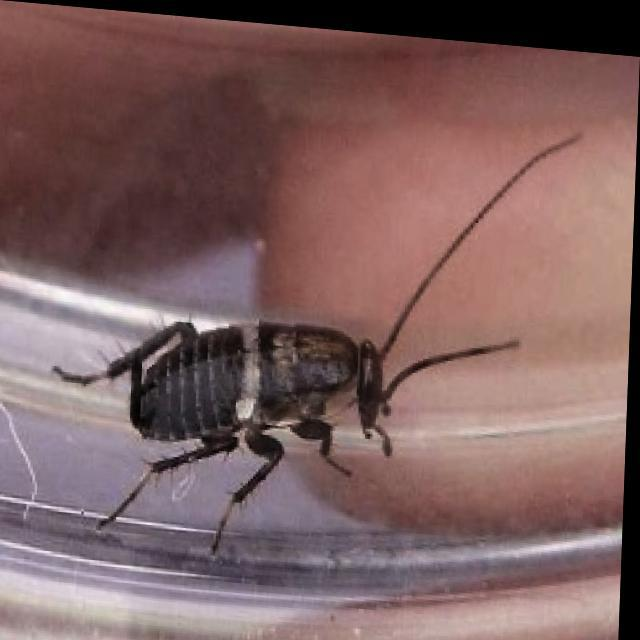cockroach: (45, 127, 586, 560)
